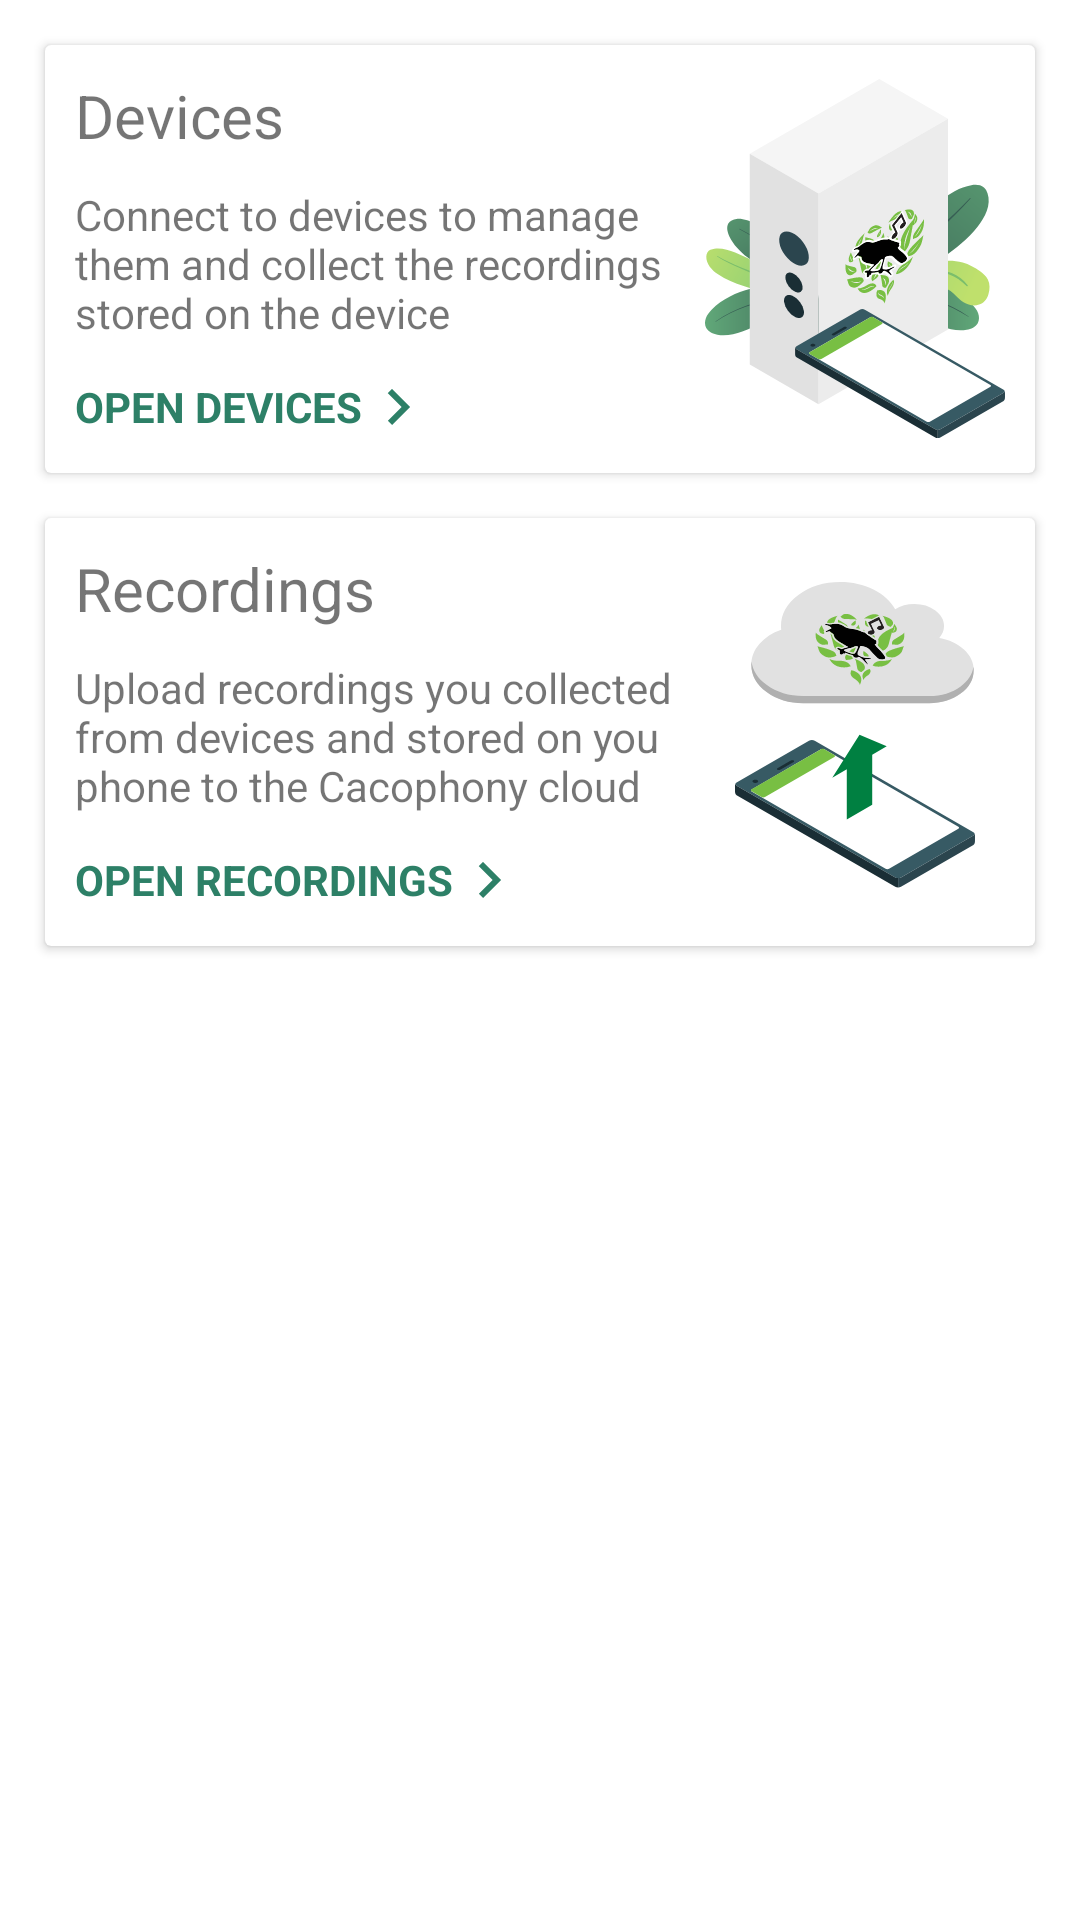

Icons on this 1080x1920 Android screen, each with the point to tap as point (x, y):
keyboard arrow right: point (399, 407), point (490, 880)
